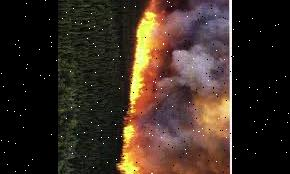fire: (112, 0, 171, 174)
